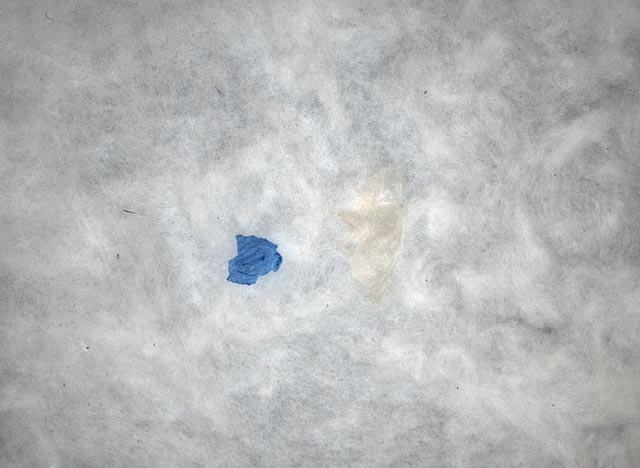plastic film: (346, 172, 404, 299), (225, 233, 282, 286)
